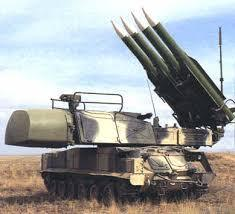rszo: (1, 4, 235, 209)
